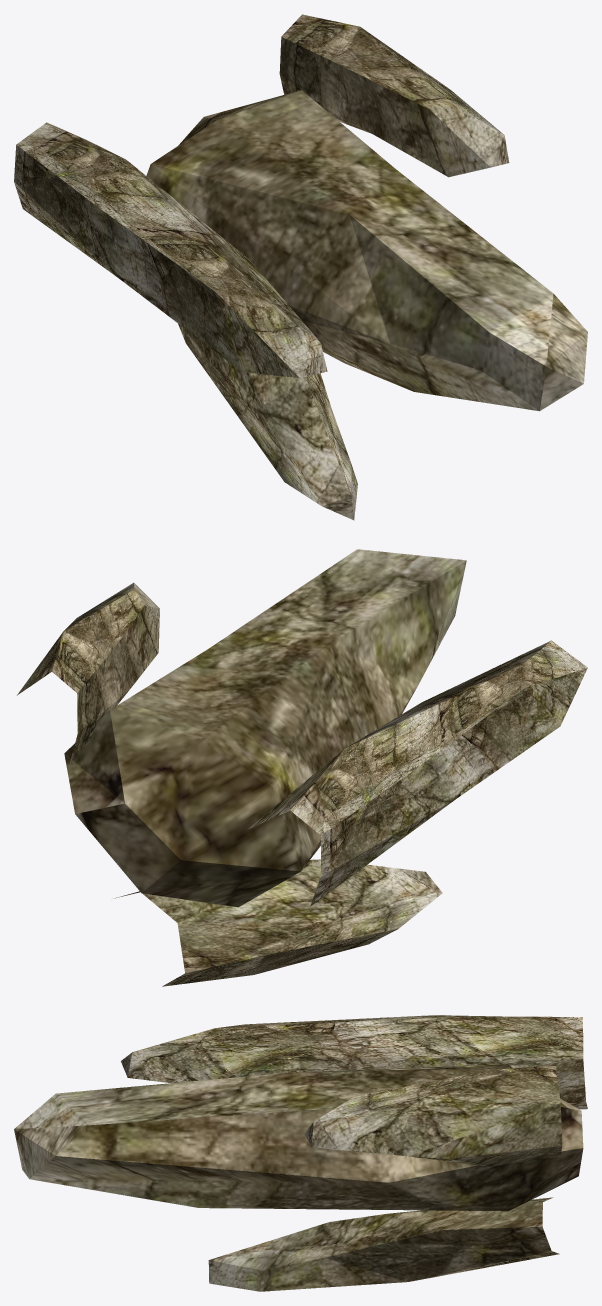
3 views of the same model, one above another, from view 1: azimuth 30°, elevation 25°; view 2: azimuth 150°, elevation 25°; view 3: azimuth 270°, elevation 25° (orthographic). The views are drawn at different scales.
Parts seen in each view (by area): view 1: model_Object02; view 2: model_Object02; view 3: model_Object02.
Boxes of the visible parts, left/top/right/bottom form: model_Object02: left=14, top=14, right=587, bottom=520; model_Object02: left=17, top=549, right=587, bottom=986; model_Object02: left=14, top=1015, right=587, bottom=1291.
Size of the model in its own units: 4.36 by 3.91 by 7.09.
1 material, 1 textured.
